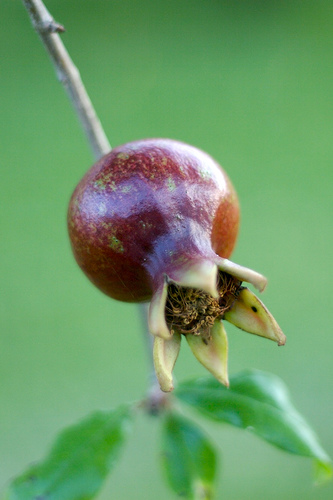pomogranate: (66, 137, 286, 395)
